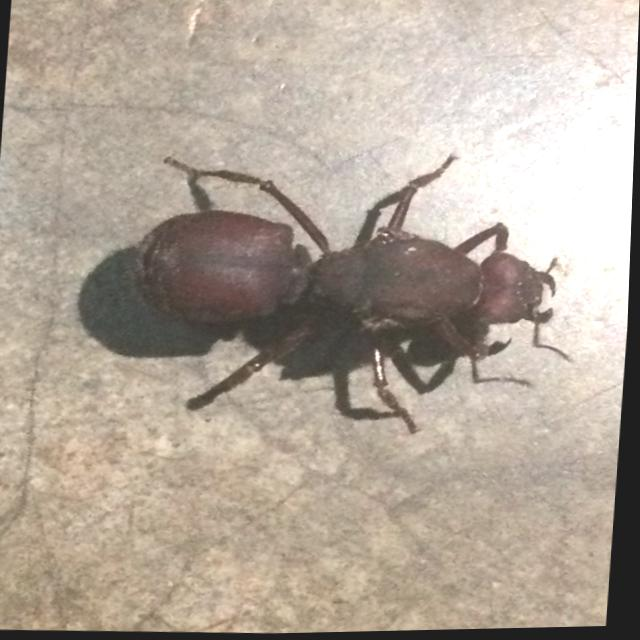Alive-Female-Dealate: (117, 141, 588, 446)
